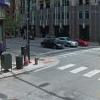Crosswalk: (46, 55, 100, 90)
